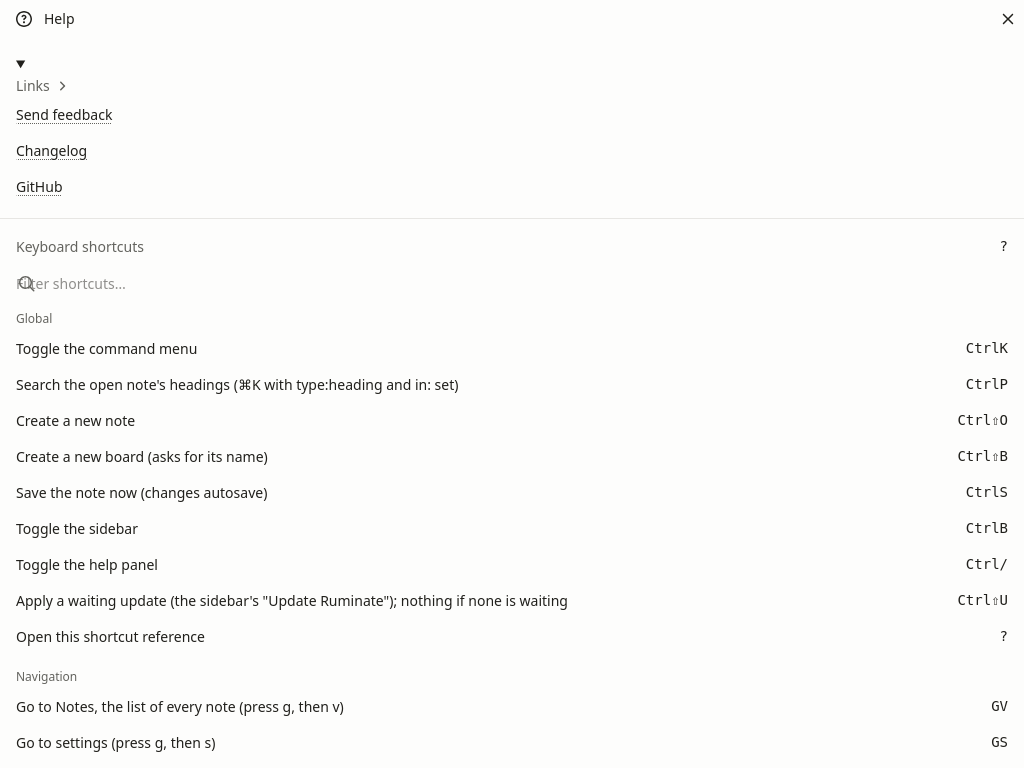
Scenario: shortcut reference (? / help panel) › shows an empty state when nothing matches
This screenshot has width=1024, height=768.
In the search field with placeholder "Filter shortcuts…": (117, 284) [16, 273, 218, 294], type "xyzzy-no-such-shortcut"
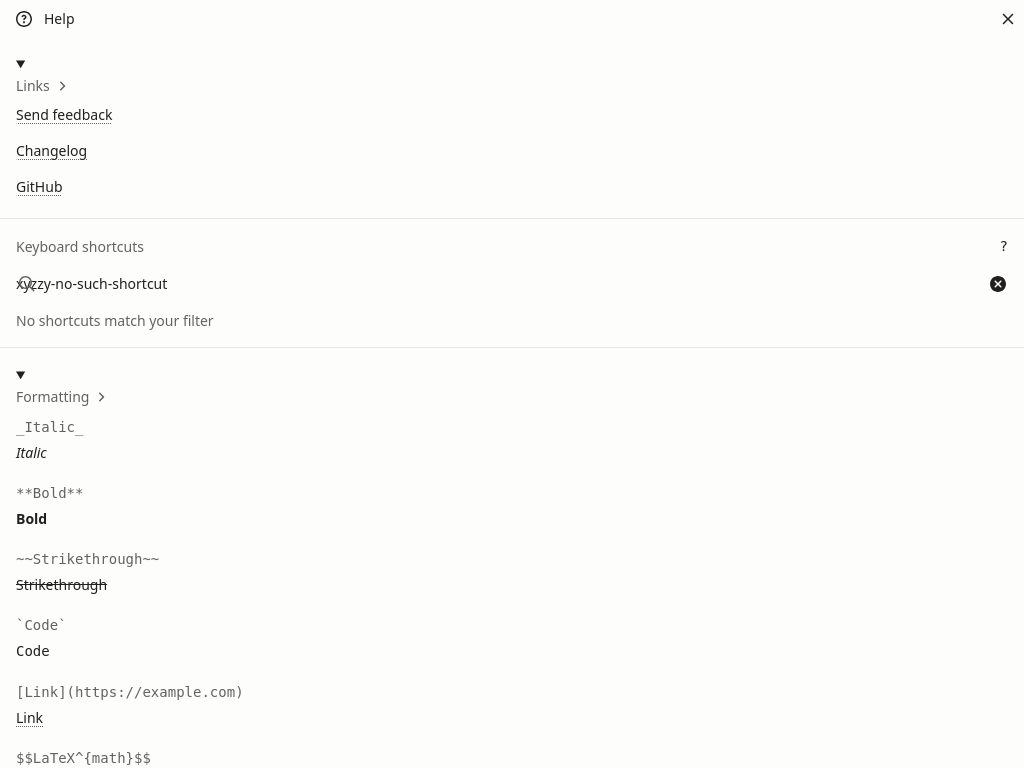
Result: the text "No shortcuts match your filter" is shown at [16, 311, 214, 330]
